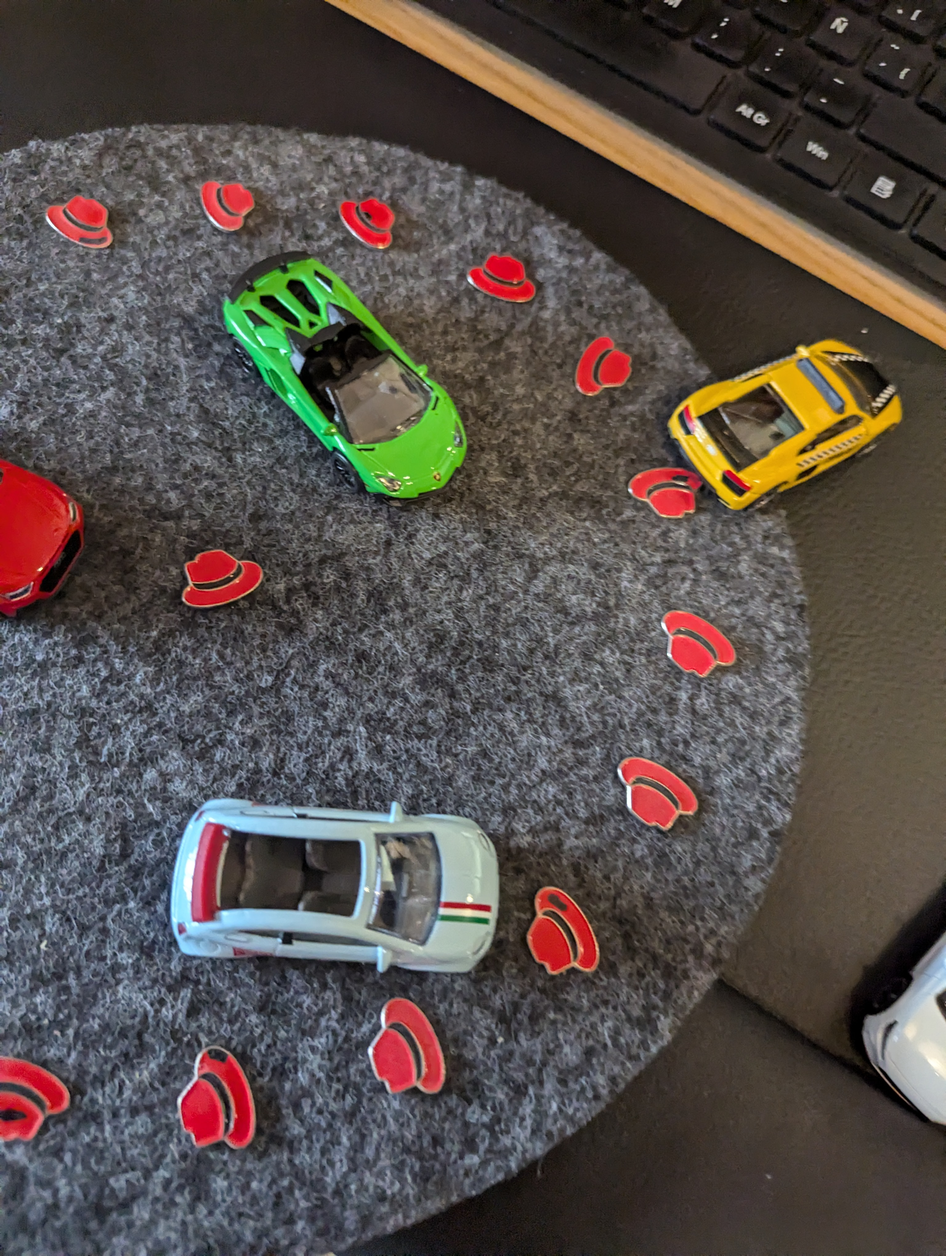Car: (153, 786, 512, 1001), (186, 250, 481, 506), (659, 299, 919, 560)
Red-Hat: (156, 1018, 279, 1158), (350, 985, 470, 1110), (516, 865, 619, 987), (608, 747, 725, 852), (156, 534, 302, 617), (0, 1049, 96, 1156), (644, 599, 750, 690), (612, 448, 717, 526), (36, 179, 125, 263), (559, 323, 647, 406), (326, 173, 404, 261), (451, 242, 549, 312), (192, 169, 268, 242)
Scratch: (536, 878, 579, 916), (63, 223, 116, 250), (194, 1032, 237, 1065), (0, 1102, 36, 1127), (659, 467, 696, 490), (351, 204, 384, 223)
